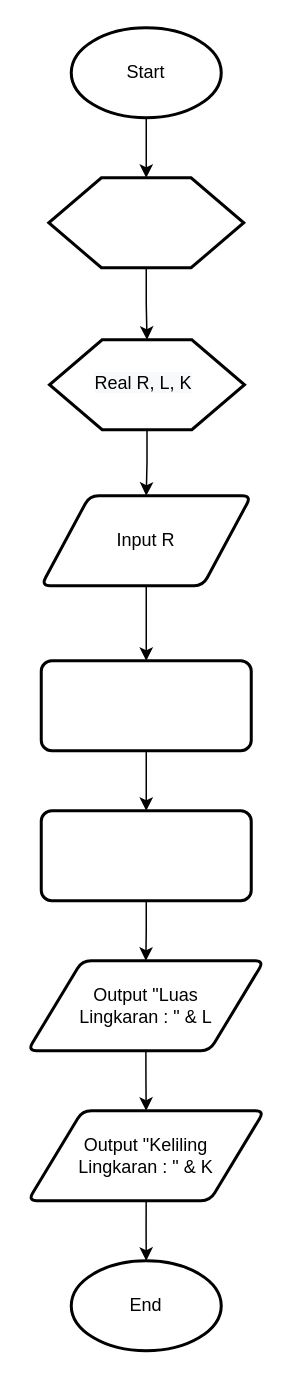
Some shapes in this 291 by 1377 pixel diagram are drawn without their labels. Here are the shapes that lost their labels. From the top down, the centre of each, then its label:
the point at 145,222: Float phi = 3.14
the point at 145,705: L = phi * R * R
the point at 145,855: K = 2 * phi * R
